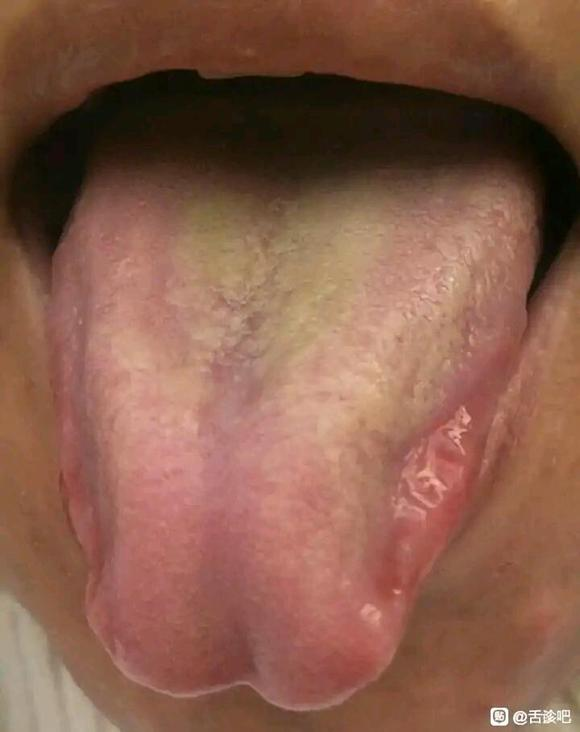gandanao: (53, 229, 125, 618)
hongshe: (52, 99, 543, 712)
huangtaishe: (52, 98, 543, 711)
xinfeiao: (167, 651, 305, 710)
